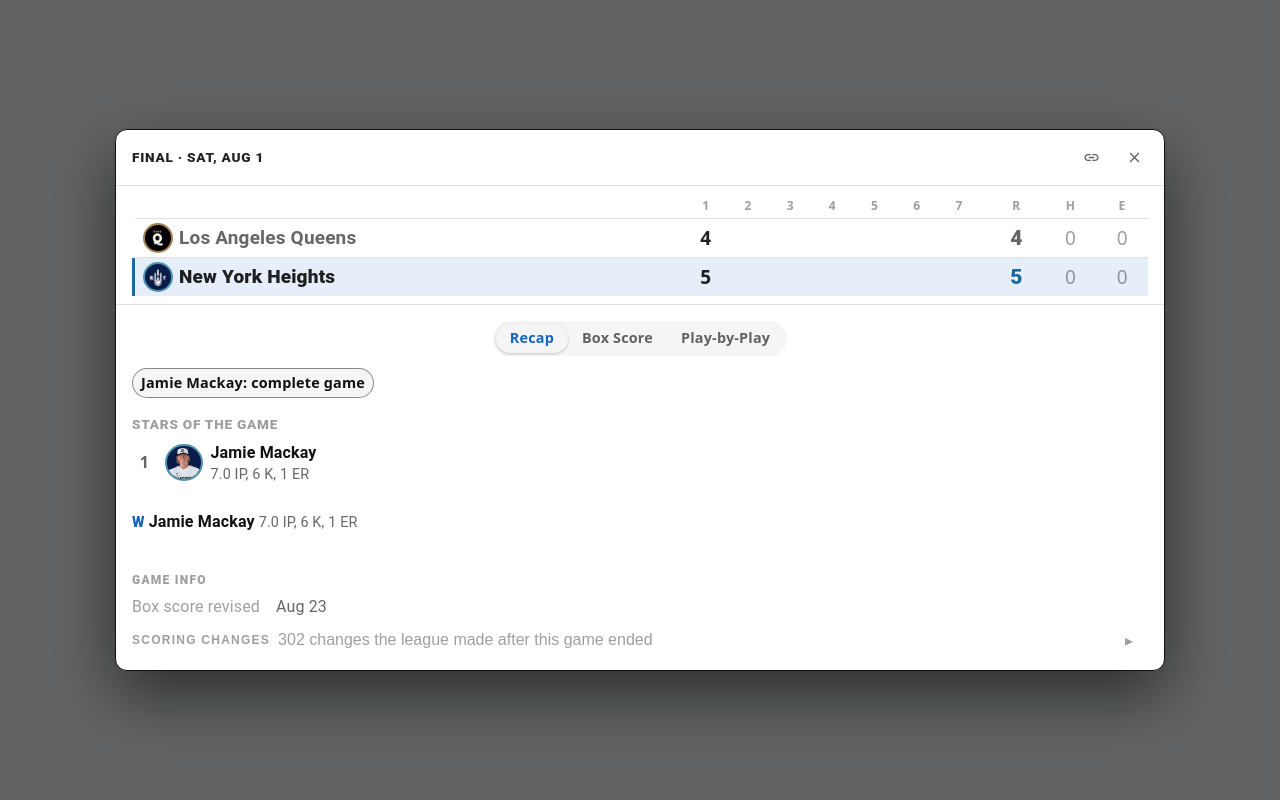
Test: the scoring changelog › admits what the log did not keep
Click the text "Scoring changes": (201, 640) [132,634,270,648]
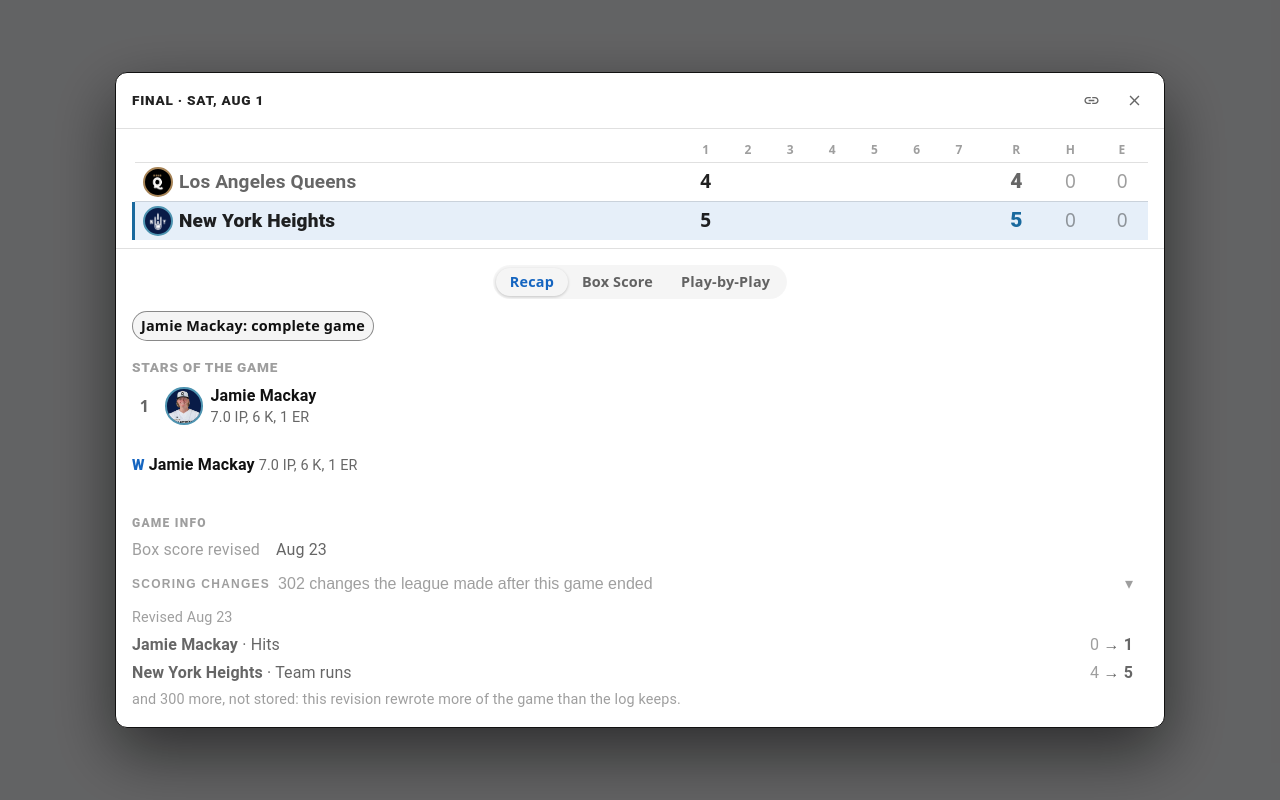
Check: the text "and 300 more, not stored" is shown, box [132,691,681,708]
